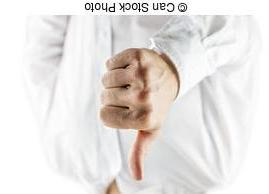thumbsdown: (97, 46, 171, 182)
